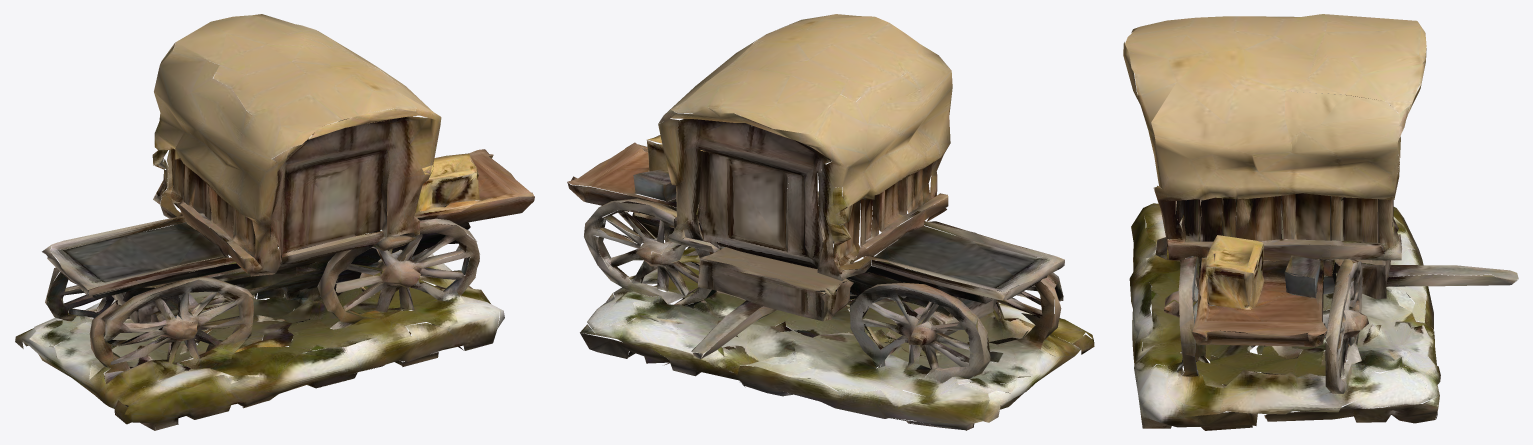
Rendered from wt-outpost-wagon.glb.
3 views of the same model, side by side, from view 1: azimuth 30°, elevation 25°; view 2: azimuth 150°, elevation 25°; view 3: azimuth 270°, elevation 25° (orthographic). The views are drawn at different scales.
Parts seen in each view (by area): view 1: lo.obj; view 2: lo.obj; view 3: lo.obj.
Boxes of the visible parts, x1,y1,x2,y2 form: lo.obj: (15,14,534,430); lo.obj: (567,14,1094,430); lo.obj: (1123,14,1518,430).
Bounding box in the file's own units: 4.26 × 2.55 × 2.85.
Materials: 1 (1 with a texture image).
